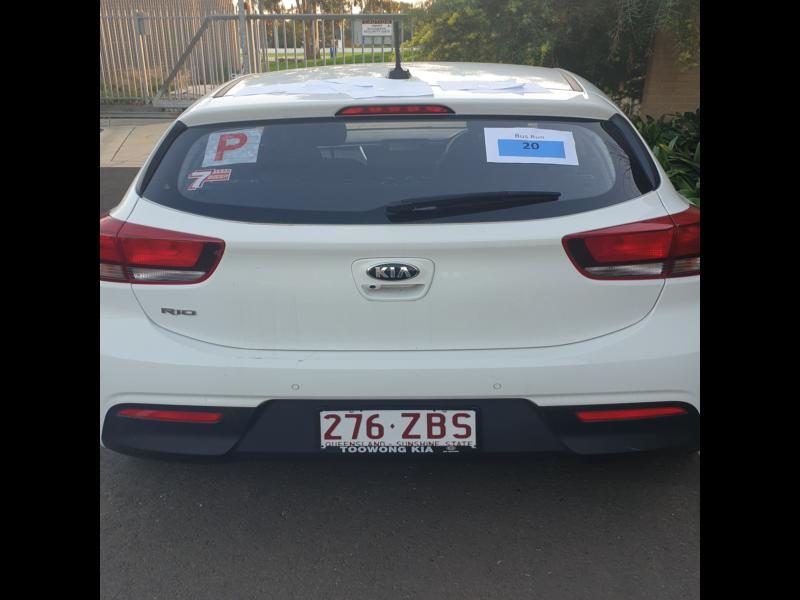BusRun: (498, 139, 567, 159)
PlateNo: (317, 408, 480, 449)
